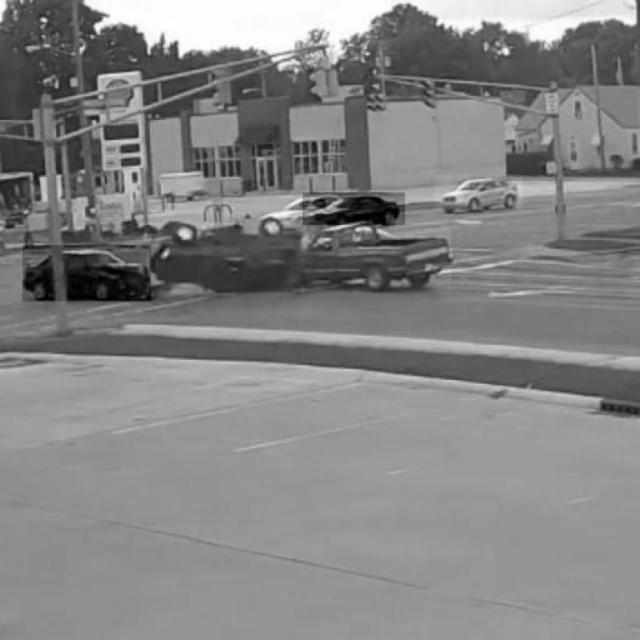accident: (156, 223, 450, 295)
vehicle: (23, 245, 151, 301), (302, 192, 404, 226), (435, 174, 523, 211)
